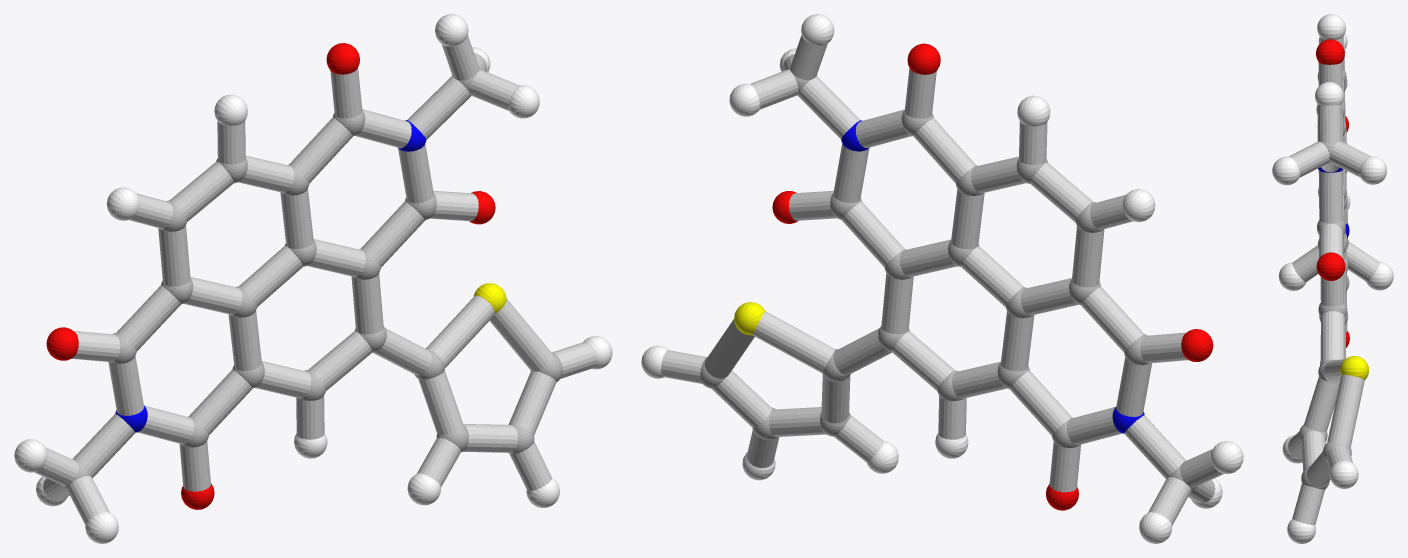
The model's file is Dimethyl_Naphthalene_Dicarboximide_Phi_5_Theta_160_Thiophene.glb.
3 views of the same model, side by side, from view 1: azimuth 30°, elevation 25°; view 2: azimuth 150°, elevation 25°; view 3: azimuth 270°, elevation 25° (orthographic). The views are drawn at different scales.
Parts seen in each view (by area): view 1: grp14119, grp7241, grp1, grp12309, grp11585; view 2: grp14119, grp7241, grp1, grp12309, grp11585, grp13757; view 3: grp14119, grp7241, grp1, grp12309, grp13757.
Boxes of the visible parts, <box> form: grp14119: <box>34,35,596,524</box>; grp7241: <box>14,14,612,543</box>; grp1: <box>62,67,562,489</box>; grp12309: <box>46,43,495,509</box>; grp11585: <box>115,120,426,432</box>; grp14119: <box>661,35,1223,525</box>; grp7241: <box>641,14,1243,543</box>; grp1: <box>700,66,1196,491</box>; grp12309: <box>772,43,1213,510</box>; grp11585: <box>841,120,1144,433</box>; grp13757: <box>734,302,764,335</box>; grp14119: <box>1288,36,1379,525</box>; grp7241: <box>1272,14,1393,543</box>; grp1: <box>1298,69,1351,489</box>; grp12309: <box>1316,39,1349,347</box>; grp13757: <box>1340,356,1368,379</box>.
Bounding box in the file's own units: 12.35 × 9.81 × 2.52.
